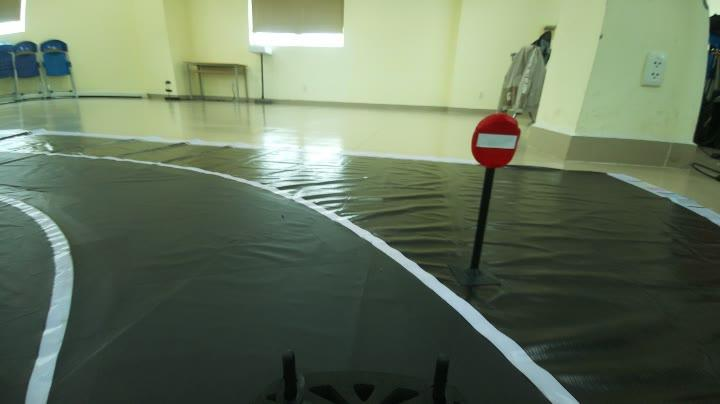no_entry: (466, 107, 528, 175)
